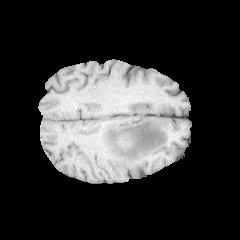glioma: (96, 116, 172, 169)
